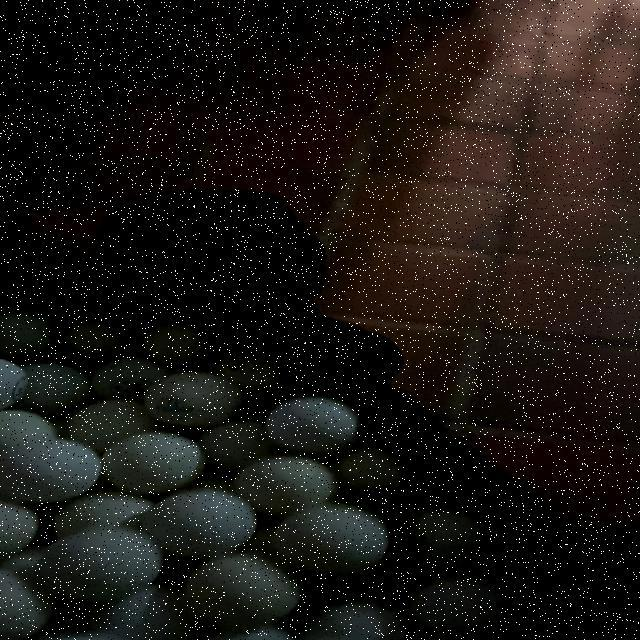ping-pong-ball: (21, 519, 182, 613), (169, 548, 320, 634), (140, 484, 260, 560), (268, 503, 394, 575), (252, 392, 370, 464), (0, 434, 106, 512), (95, 431, 212, 499), (139, 370, 255, 432)
